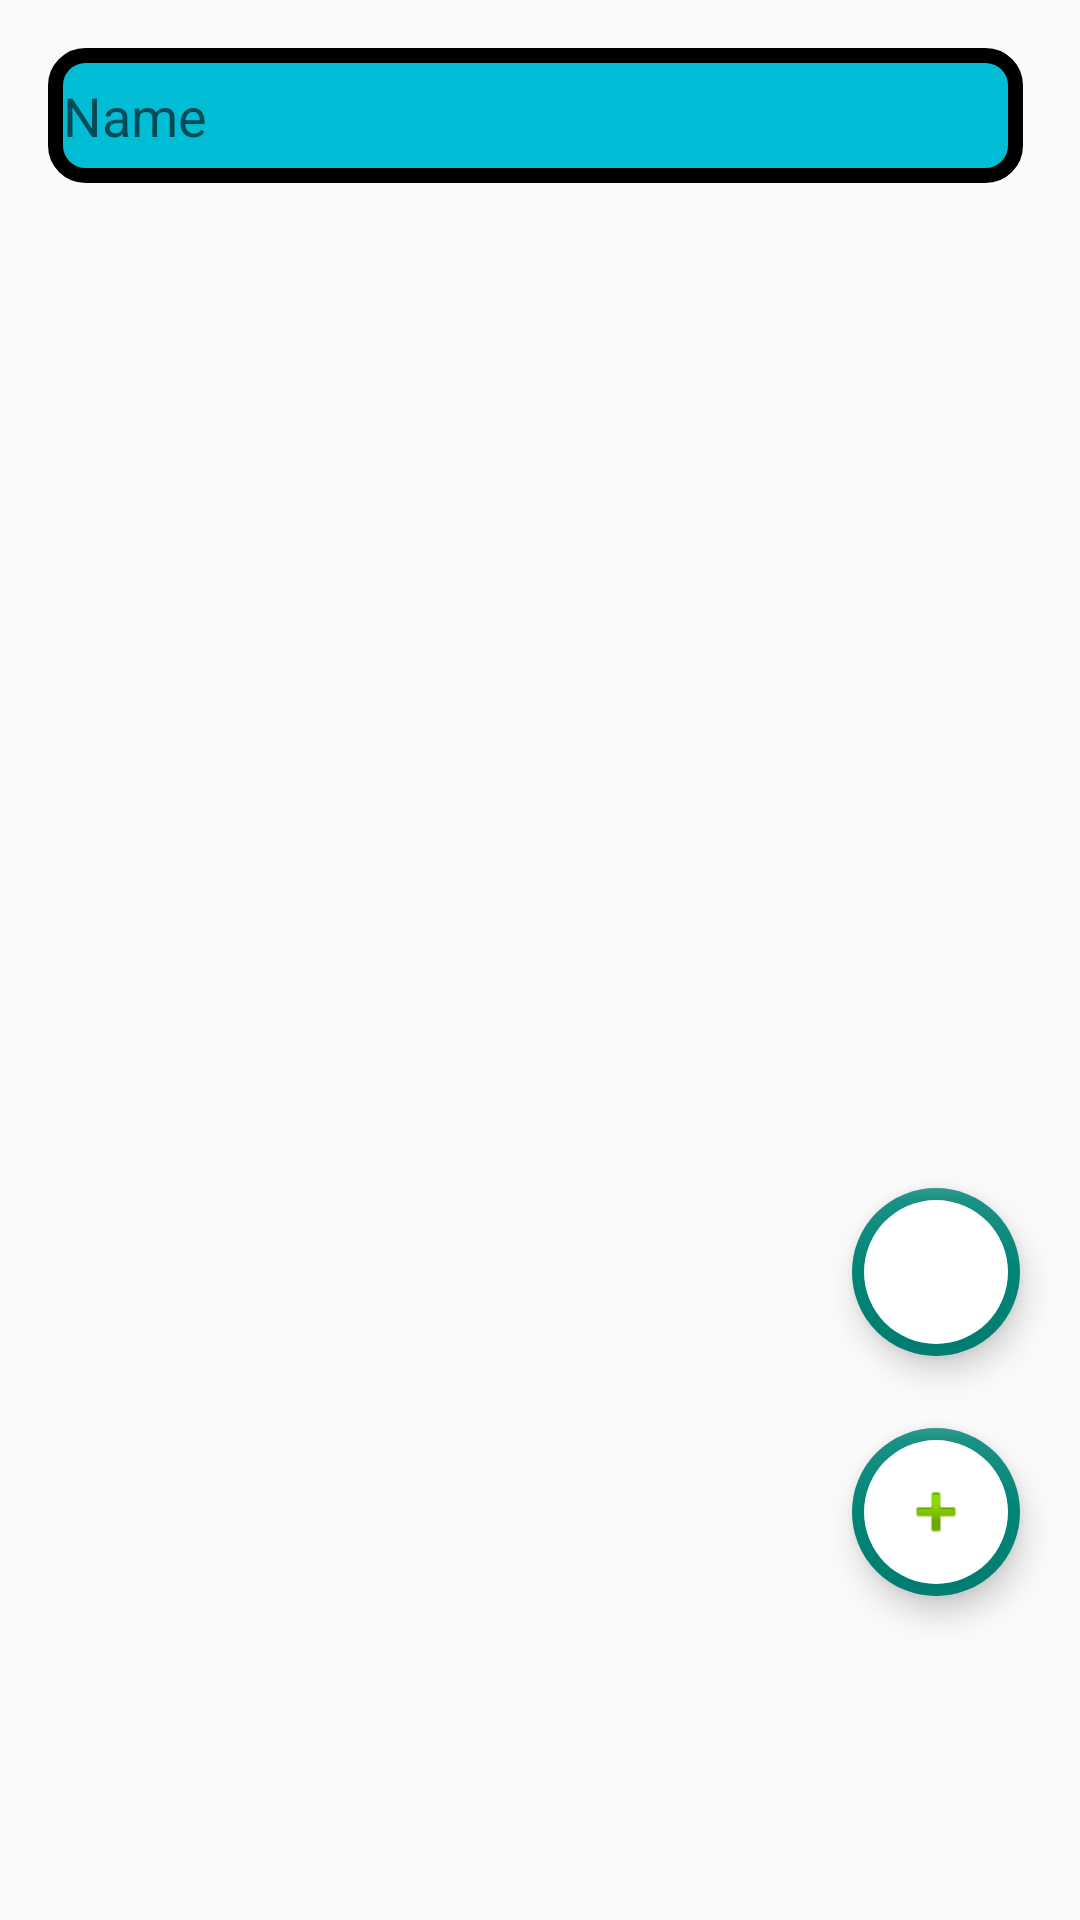

Icons on this 1080px×1920px Android screen, each with its box as (left=x1, top=y1, right=x2, bottom=y2):
add: (left=852, top=1428, right=1020, bottom=1596)
